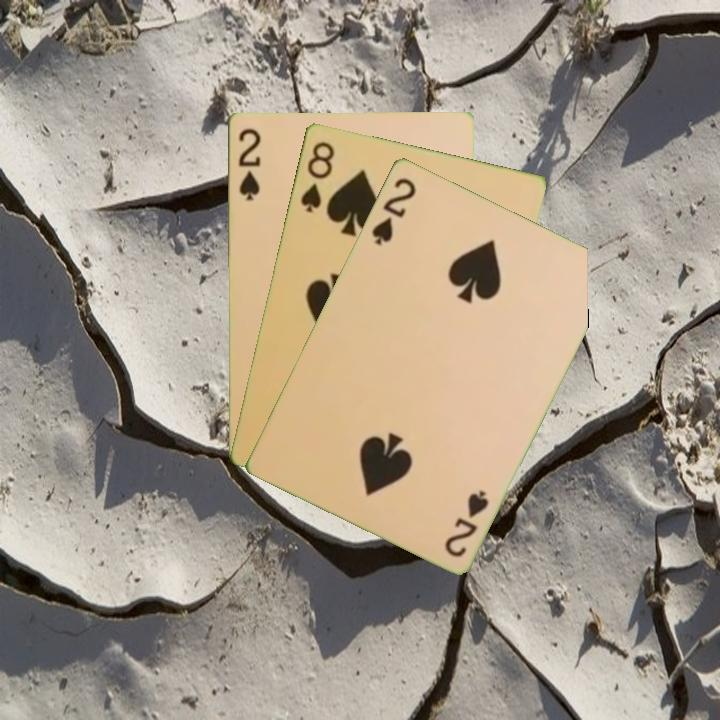2s: (367, 173, 419, 248), (441, 486, 492, 560), (234, 124, 263, 203)
8s: (296, 137, 337, 215)
